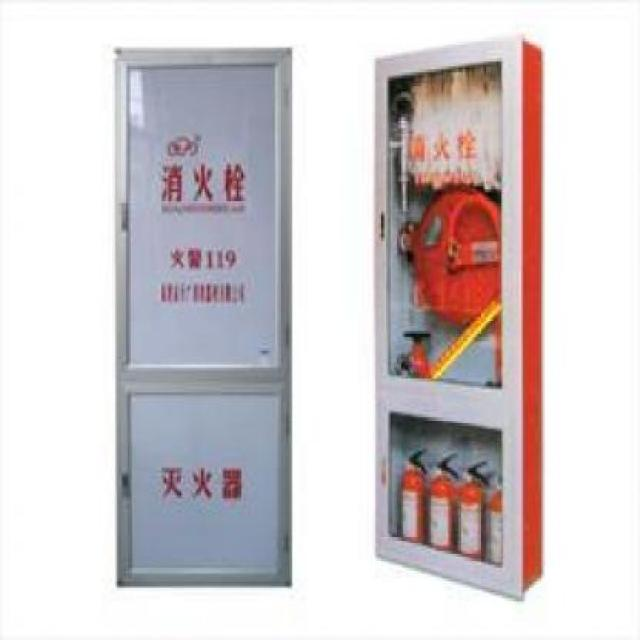firehydrant: (370, 28, 548, 607), (111, 41, 295, 594)
